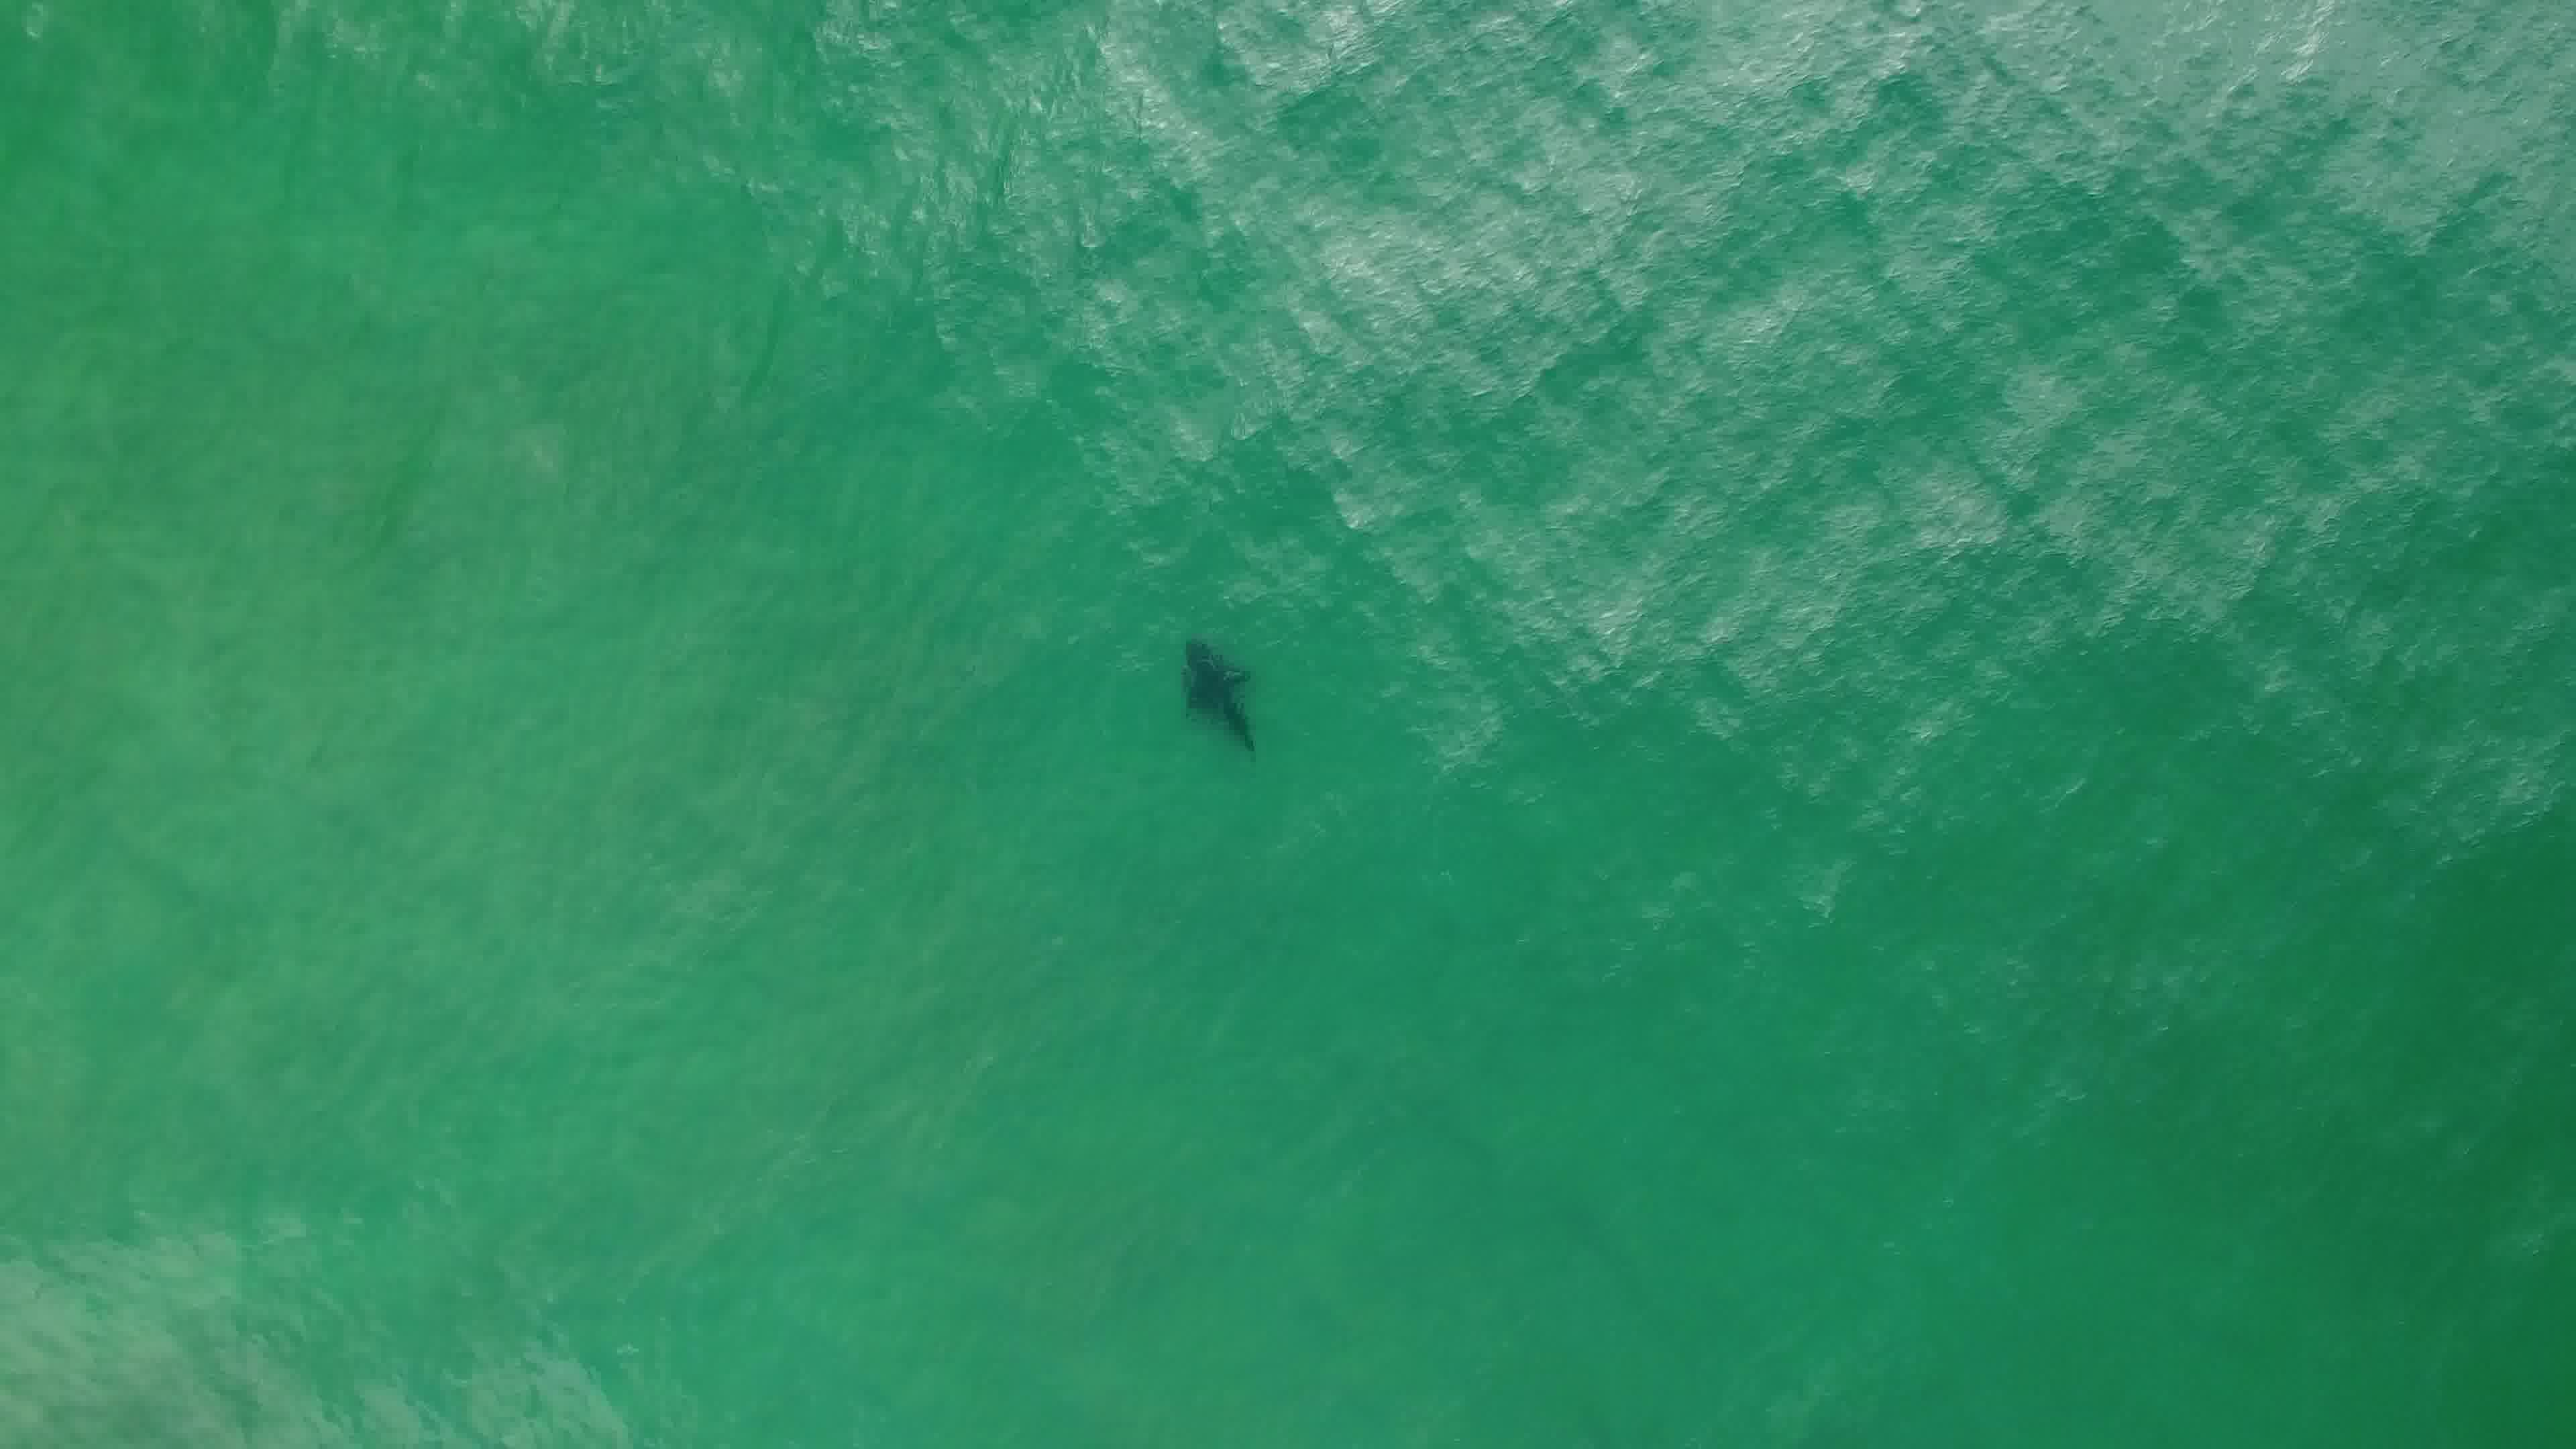shark: (1173, 633, 1265, 764)
